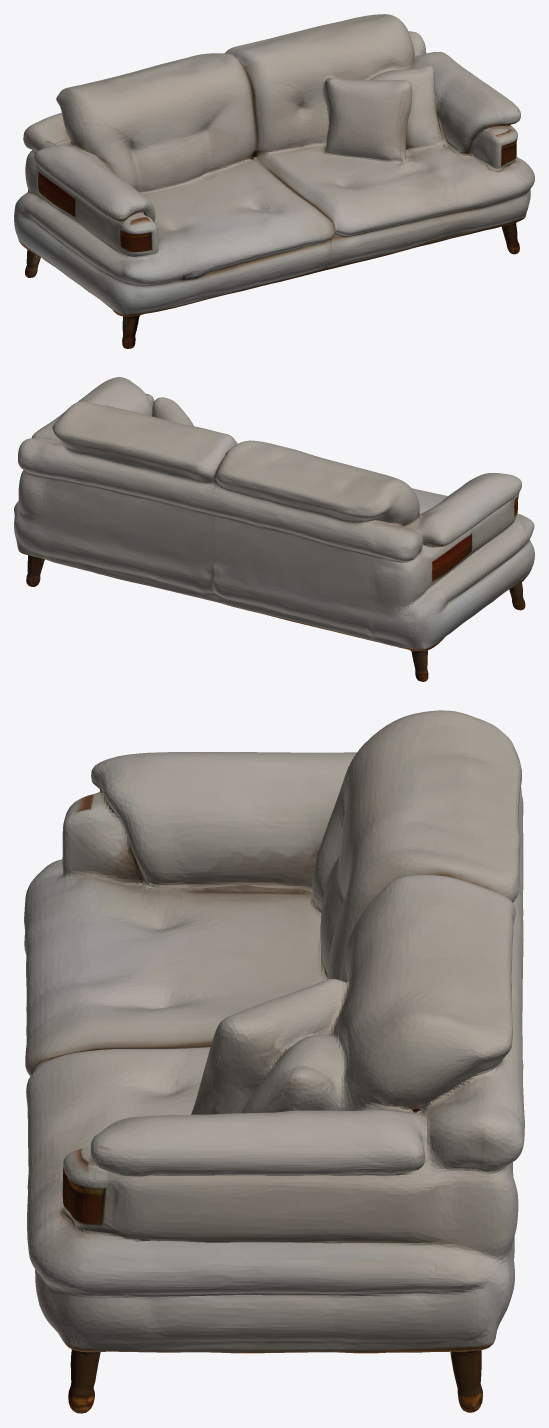
The model's file is c11_sofa_s0.glb.
3 views of the same model, one above another, from view 1: azimuth 30°, elevation 25°; view 2: azimuth 150°, elevation 25°; view 3: azimuth 270°, elevation 25° (orthographic). The views are drawn at different scales.
Visible parts, largest first — view 1: textured.obj; view 2: textured.obj; view 3: textured.obj.
Boxes of the visible parts, x1=… form: textured.obj: x1=14, y1=14, x2=534, y2=348; textured.obj: x1=14, y1=377, x2=534, y2=681; textured.obj: x1=24, y1=710, x2=524, y2=1413.
Size of the model in its own units: 1.99 by 0.8134 by 1.02.
Materials: 1 (1 with a texture image).
